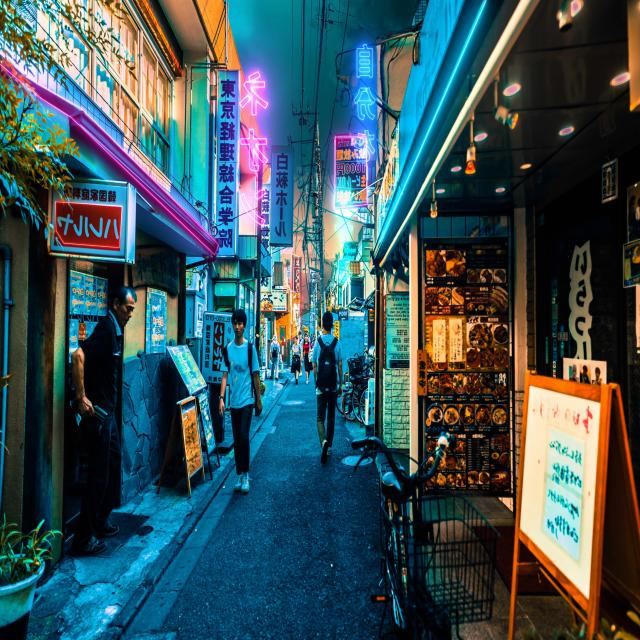adult: (68, 276, 138, 554), (216, 304, 266, 498), (310, 308, 347, 470)
